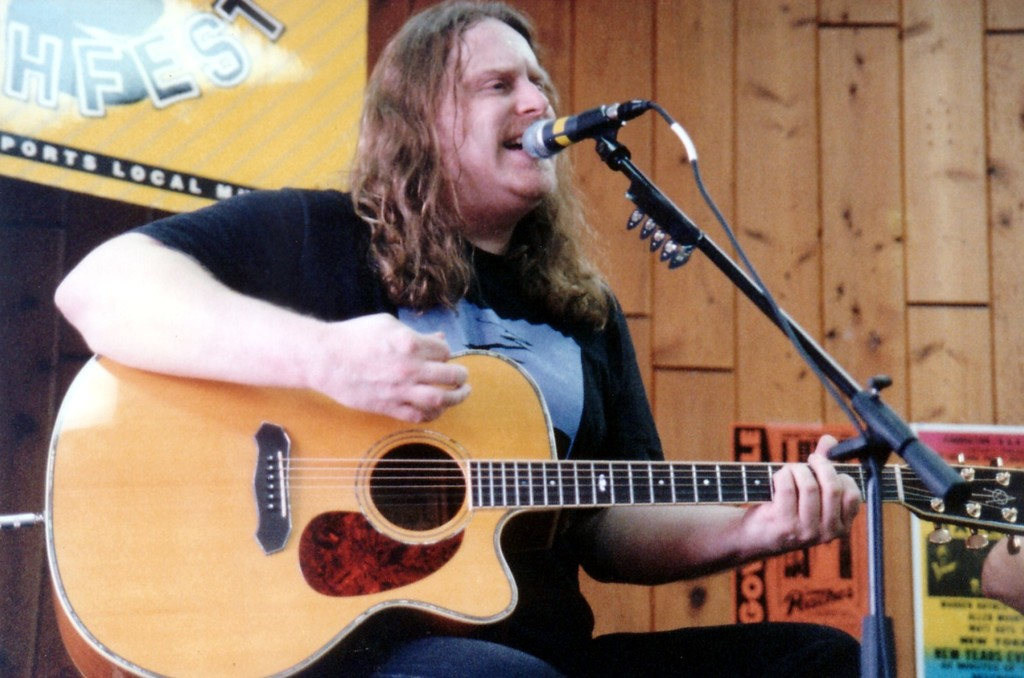guitar: (50, 322, 1020, 677)
